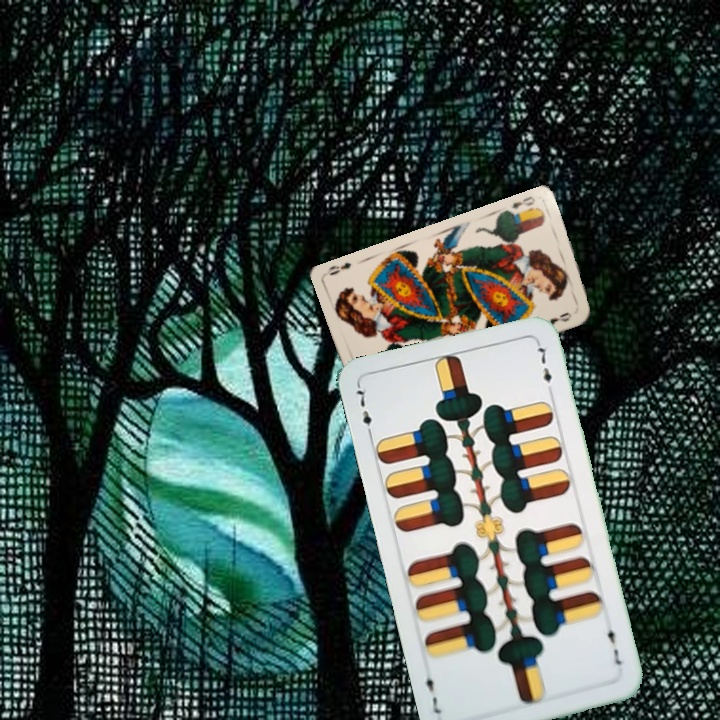E7: (353, 382, 375, 441), (603, 619, 625, 668)
EO: (508, 192, 538, 212)
